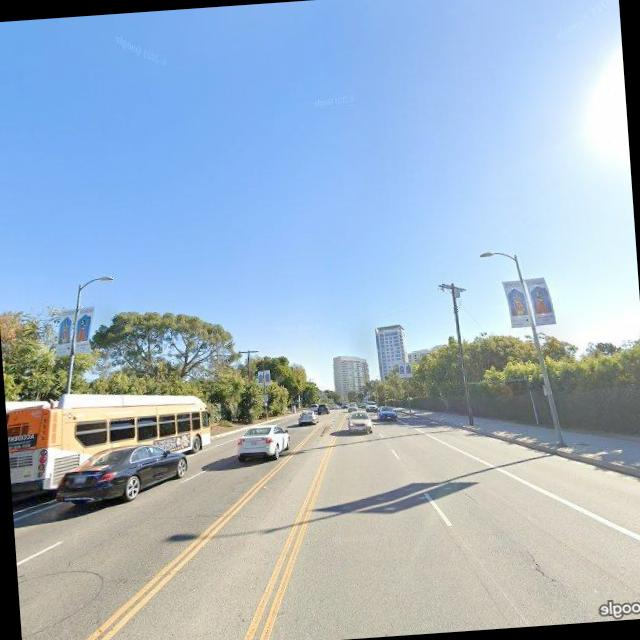pothole: (524, 544, 561, 584)
